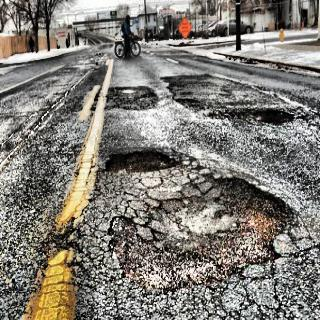alligator-crack: (105, 211, 318, 319), (42, 147, 214, 270), (31, 262, 108, 317), (211, 107, 237, 119)
crack: (296, 108, 319, 128), (252, 83, 272, 94)
pothole: (109, 172, 292, 292), (105, 148, 180, 174), (238, 107, 295, 125)
